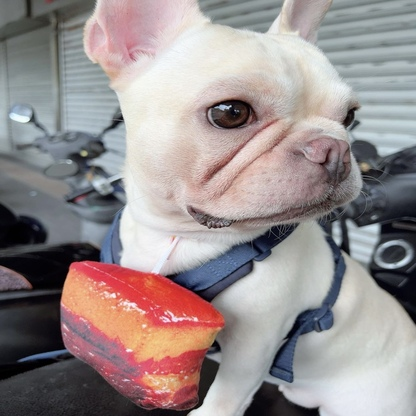bulldog: (80, 1, 414, 416)
